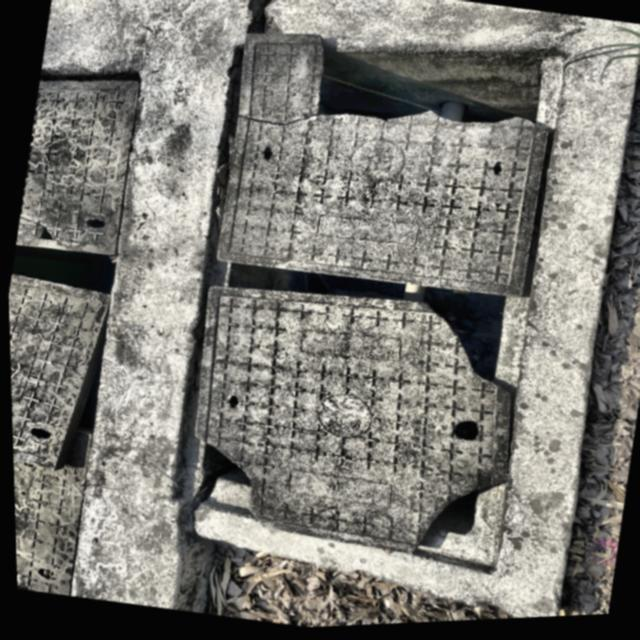cracks: (38, 55, 138, 98)
open_manhole: (194, 20, 636, 605)
